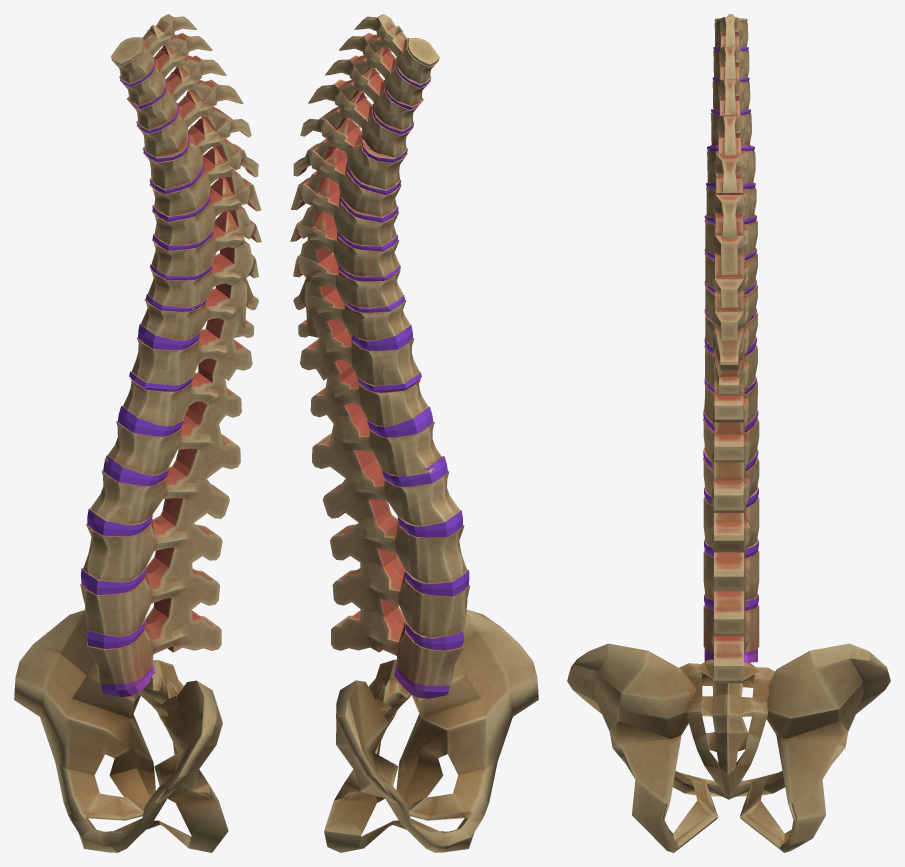
File: spain.fbx
3 views of the same model, side by side, from view 1: azimuth 30°, elevation 25°; view 2: azimuth 150°, elevation 25°; view 3: azimuth 270°, elevation 25° (orthographic).
Parts seen in each view (by area): view 1: pelvice, pCylinder3, pCylinder4, pCylinder2, pCylinder5, pCylinder6, pCylinder8, pCylinder7, pCylinder10, pCylinder9, pCylinder11, pCylinder12 (+6 smaller); view 2: pelvice, pCylinder3, pCylinder4, pCylinder2, pCylinder6, pCylinder5, pCylinder8, pCylinder7, pCylinder10, pCylinder9, pCylinder11, pCylinder12 (+6 smaller); view 3: pelvice, pCylinder2, pCylinder3, pCylinder6, pCylinder4, pCylinder10, pCylinder5, pCylinder7, pCylinder12, pCylinder13, pCylinder14, pCylinder8 (+6 smaller).
Part boxes in pixels (<box>): pelvice: <box>14,610,228,852</box>; pCylinder3: <box>80,557,219,636</box>; pCylinder4: <box>83,508,222,581</box>; pCylinder2: <box>86,607,221,697</box>; pCylinder5: <box>90,455,229,524</box>; pCylinder6: <box>104,405,240,478</box>; pCylinder8: <box>132,321,252,385</box>; pCylinder7: <box>123,365,241,425</box>; pCylinder10: <box>148,253,258,310</box>; pCylinder9: <box>141,288,253,340</box>; pCylinder11: <box>151,210,261,275</box>; pCylinder12: <box>151,177,260,245</box>; pelvice: <box>324,609,538,852</box>; pCylinder3: <box>332,557,470,637</box>; pCylinder4: <box>330,509,466,583</box>; pCylinder2: <box>331,607,464,698</box>; pCylinder6: <box>312,406,441,478</box>; pCylinder5: <box>323,456,459,525</box>; pCylinder8: <box>300,322,419,385</box>; pCylinder7: <box>310,366,428,426</box>; pCylinder10: <box>293,253,403,309</box>; pCylinder9: <box>298,288,410,340</box>; pCylinder11: <box>290,211,399,276</box>; pCylinder12: <box>291,177,398,245</box>; pelvice: <box>567,643,890,852</box>; pCylinder2: <box>703,593,759,683</box>; pCylinder3: <box>703,539,759,635</box>; pCylinder6: <box>703,409,759,512</box>; pCylinder4: <box>703,486,759,591</box>; pCylinder10: <box>704,279,757,370</box>; pCylinder5: <box>703,446,759,552</box>; pCylinder7: <box>704,376,757,462</box>; pCylinder12: <box>704,214,757,277</box>; pCylinder13: <box>706,182,756,238</box>; pCylinder14: <box>707,144,755,194</box>; pCylinder8: <box>704,336,757,422</box>.
Size of the model in its own units: 32.4 by 143 by 50.62.
Materials: 2 (2 with a texture image).
